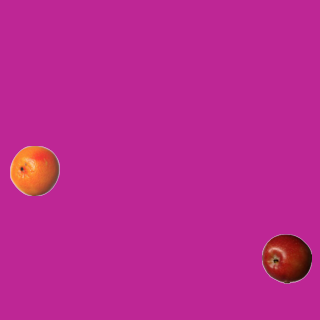Apple Braeburn: (261, 233, 311, 283)
Grapefruit Pink: (9, 145, 59, 195)
